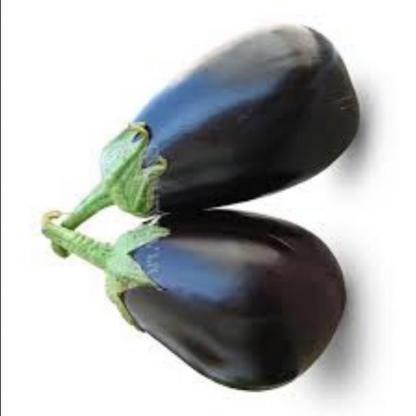eggplant: (58, 14, 364, 227), (44, 201, 365, 396)
